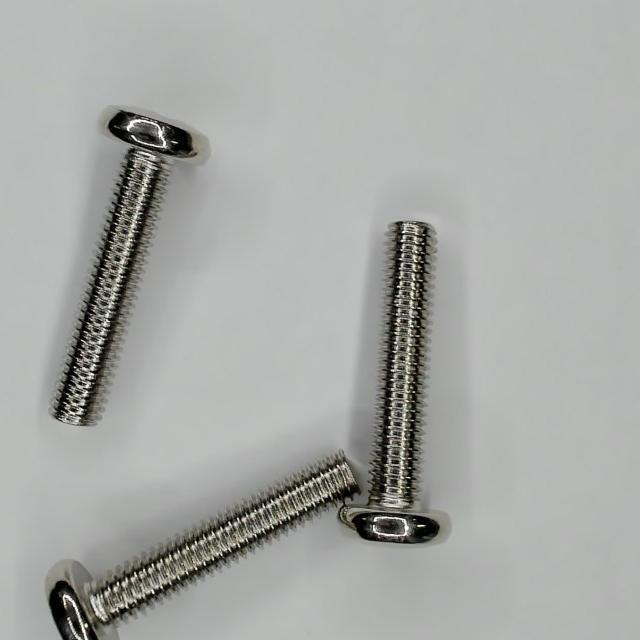Screw: (46, 454, 359, 640), (52, 110, 197, 426), (339, 221, 440, 544)
